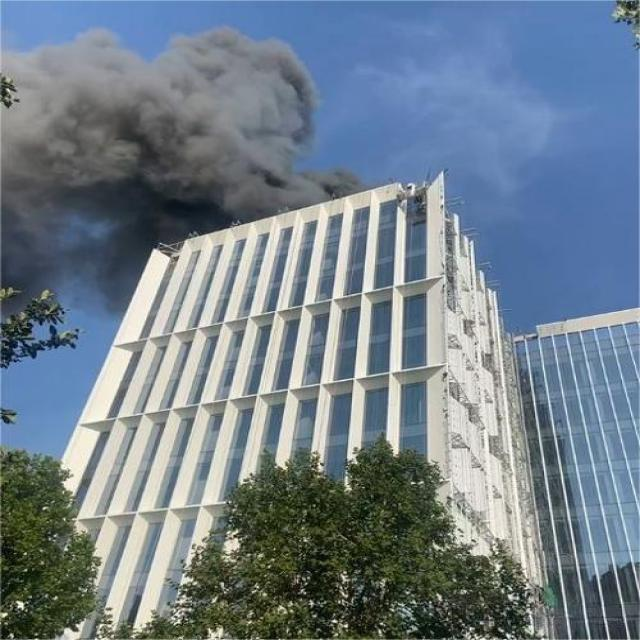Smoke: (0, 28, 337, 214), (2, 215, 134, 308)
